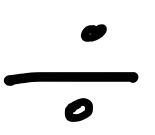div: (5, 24, 138, 122)
